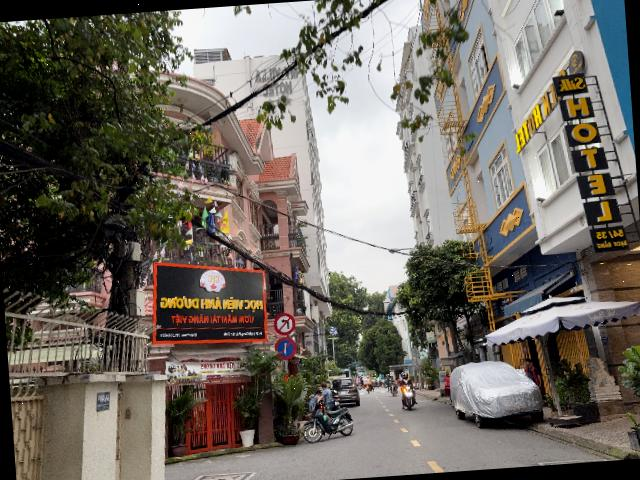cam-do-xe-ngay-le: (272, 336, 298, 360)
cam-re-phai: (272, 312, 296, 336)
